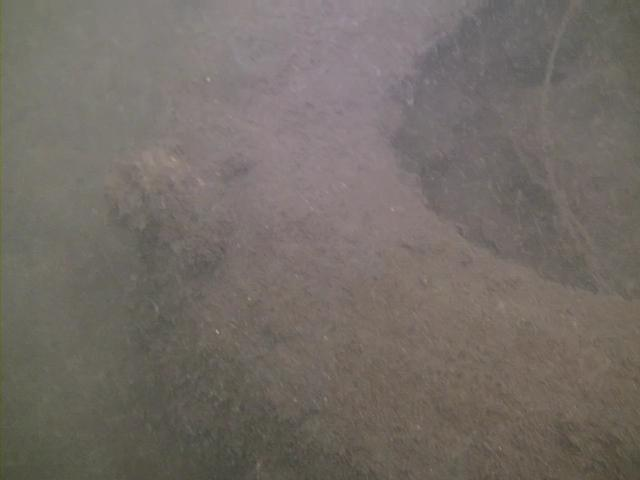tire: (133, 1, 640, 480)
